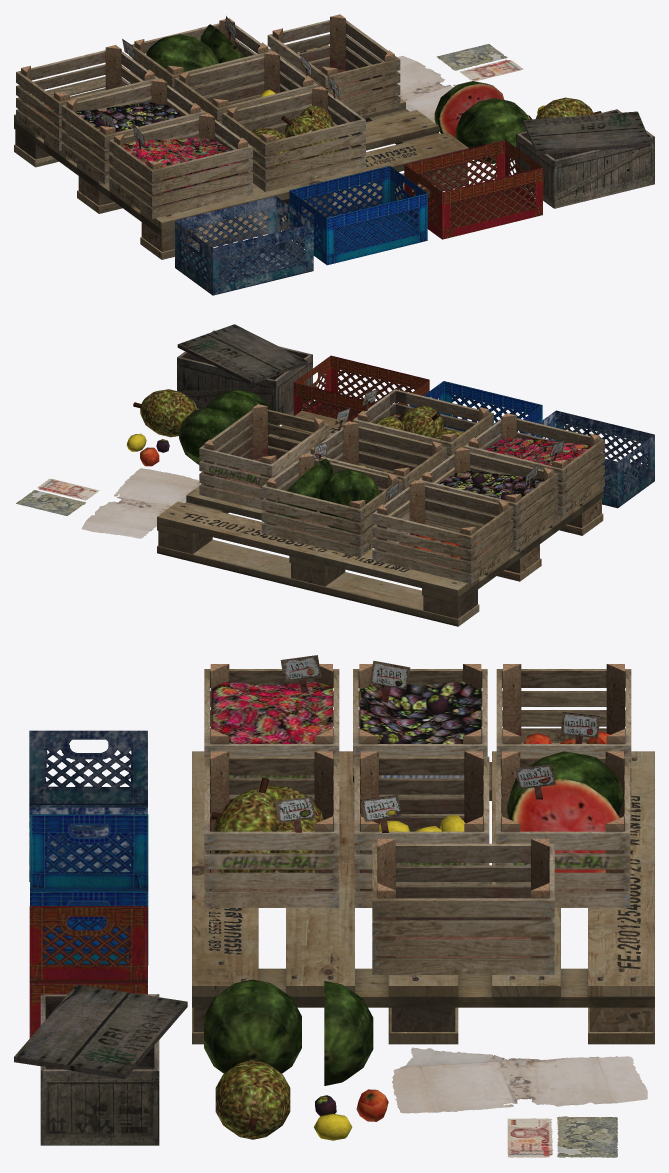
The model's file is th_fruit.glb.
3 renders of one model, top to bottom at view 1: azimuth 30°, elevation 25°; view 2: azimuth 150°, elevation 25°; view 3: azimuth 270°, elevation 25°, orthographic. The views are drawn at different scales.
Parts seen in each view (by area): view 1: WoodenPalette_MAT_Crates_0, RambutanCrate_MAT_FruitCrates_0, WoodenCrate_MAT_Crates_0, DurianCrate_MAT_FruitCrates_0, PlasticCrateBluePaint_MAT_Crates_0, PlasticCrateBlue_MAT_Crates_0, PlasticCrateRed_MAT_Crates_0, EmptyCrate_MAT_FruitCrates_0, MangusteenCrate_MAT_FruitCrates_0, AppleCrate_MAT_FruitCrates_0, LemonCrate_MAT_FruitCrates_0, WatermelonCrate_MAT_FruitCrates_0 (+6 smaller); view 2: WoodenPalette_MAT_Crates_0, AppleCrate_MAT_FruitCrates_0, WatermelonCrate_MAT_FruitCrates_0, WoodenCrate_MAT_Crates_0, EmptyCrate_MAT_FruitCrates_0, MangusteenCrate_MAT_FruitCrates_0, RambutanCrate_MAT_FruitCrates_0, DurianCrate_MAT_FruitCrates_0, LemonCrate_MAT_FruitCrates_0, PlasticCrateRed_MAT_Crates_0, PlasticCrateBluePaint_MAT_Crates_0, FlatBox_MAT_Crates_0 (+6 smaller); view 3: WoodenPalette_MAT_Crates_0, EmptyCrate_MAT_FruitCrates_0, DurianCrate_MAT_FruitCrates_0, WoodenCrate_MAT_Crates_0, WatermelonCrate_MAT_FruitCrates_0, LemonCrate_MAT_FruitCrates_0, MangusteenCrate_MAT_FruitCrates_0, RambutanCrate_MAT_FruitCrates_0, FlatBox_MAT_Crates_0, PlasticCrateBlue_MAT_Crates_0, AppleCrate_MAT_FruitCrates_0, PlasticCrateBluePaint_MAT_Crates_0 (+8 smaller).
Boxes of the visible parts, box(x1,y1,x2,y2) form: WoodenPalette_MAT_Crates_0: box(14, 45, 468, 259); RambutanCrate_MAT_FruitCrates_0: box(109, 113, 252, 218); WoodenCrate_MAT_Crates_0: box(516, 109, 654, 208); DurianCrate_MAT_FruitCrates_0: box(222, 75, 365, 191); PlasticCrateBluePaint_MAT_Crates_0: box(175, 196, 313, 295); PlasticCrateBlue_MAT_Crates_0: box(289, 165, 427, 265); PlasticCrateRed_MAT_Crates_0: box(404, 140, 542, 239); EmptyCrate_MAT_FruitCrates_0: box(267, 14, 400, 122); MangusteenCrate_MAT_FruitCrates_0: box(61, 78, 205, 184); AppleCrate_MAT_FruitCrates_0: box(16, 39, 159, 150); LemonCrate_MAT_FruitCrates_0: box(174, 51, 318, 138); WatermelonCrate_MAT_FruitCrates_0: box(129, 16, 271, 109); WoodenPalette_MAT_Crates_0: box(157, 410, 603, 626); AppleCrate_MAT_FruitCrates_0: box(372, 480, 513, 583); WatermelonCrate_MAT_FruitCrates_0: box(261, 441, 402, 557); WoodenCrate_MAT_Crates_0: box(177, 324, 312, 425); EmptyCrate_MAT_FruitCrates_0: box(199, 404, 329, 510); MangusteenCrate_MAT_FruitCrates_0: box(417, 447, 558, 550); RambutanCrate_MAT_FruitCrates_0: box(464, 413, 604, 516); DurianCrate_MAT_FruitCrates_0: box(352, 389, 493, 477); LemonCrate_MAT_FruitCrates_0: box(307, 407, 446, 516); PlasticCrateRed_MAT_Crates_0: box(293, 355, 429, 421); PlasticCrateBluePaint_MAT_Crates_0: box(524, 410, 654, 508); FlatBox_MAT_Crates_0: box(81, 468, 200, 538); WoodenPalette_MAT_Crates_0: box(192, 751, 654, 1044); EmptyCrate_MAT_FruitCrates_0: box(372, 839, 554, 974); DurianCrate_MAT_FruitCrates_0: box(204, 751, 339, 907); WoodenCrate_MAT_Crates_0: box(14, 984, 187, 1145); WatermelonCrate_MAT_FruitCrates_0: box(495, 751, 630, 907); LemonCrate_MAT_FruitCrates_0: box(354, 751, 489, 907); MangusteenCrate_MAT_FruitCrates_0: box(353, 660, 487, 820); RambutanCrate_MAT_FruitCrates_0: box(204, 655, 339, 815); FlatBox_MAT_Crates_0: box(392, 1047, 647, 1113); PlasticCrateBlue_MAT_Crates_0: box(30, 814, 148, 965); AppleCrate_MAT_FruitCrates_0: box(496, 664, 631, 820); PlasticCrateBluePaint_MAT_Crates_0: box(29, 730, 147, 881).
Bounding box in the file's own units: 187 × 44.38 × 141.
Materials: 2 (2 with a texture image).
